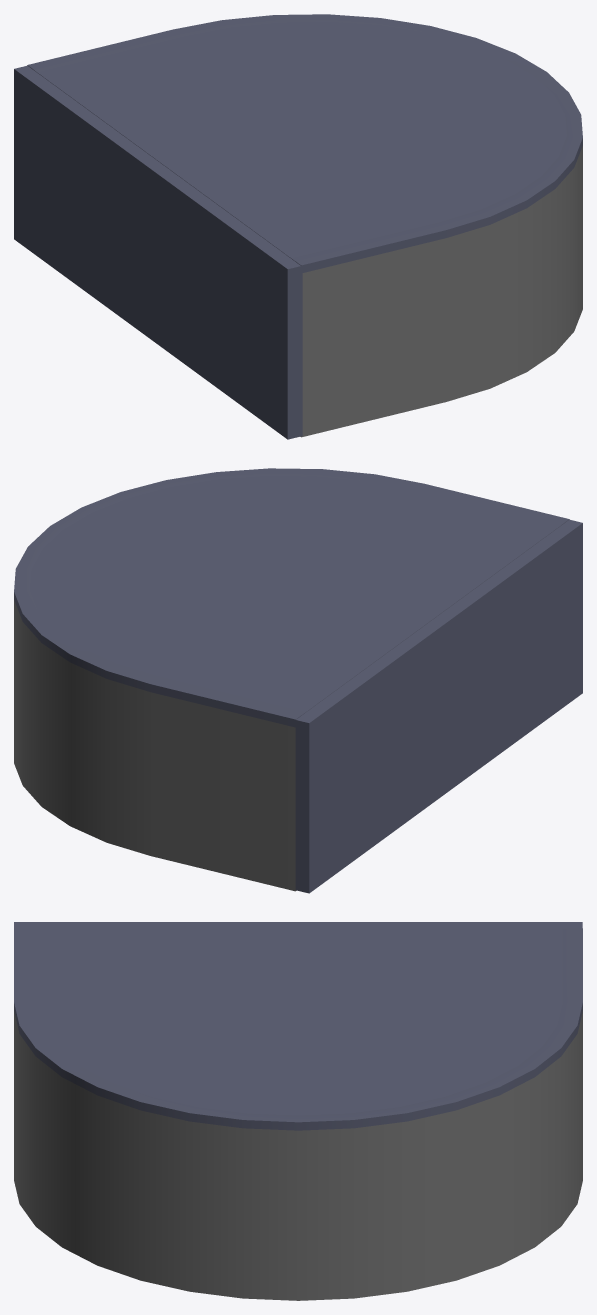
The model's file is Walls.fbx.
3 renders of one model, top to bottom at view 1: azimuth 30°, elevation 25°; view 2: azimuth 150°, elevation 25°; view 3: azimuth 270°, elevation 25°, orthographic. The views are drawn at different scales.
Parts seen in each view (by area): view 1: Up, BAck, Wall; view 2: Up, BAck, Wall; view 3: Up, Wall, BAck.
Boxes of the visible parts, bbox=[...] form: Up: bbox=[27, 14, 582, 272]; BAck: bbox=[14, 65, 302, 439]; Wall: bbox=[300, 146, 582, 437]; Up: bbox=[14, 468, 569, 727]; BAck: bbox=[295, 519, 582, 893]; Wall: bbox=[14, 600, 296, 891]; Up: bbox=[14, 928, 582, 1130]; Wall: bbox=[14, 1011, 582, 1300]; BAck: bbox=[14, 922, 582, 928].
Bounding box in the file's own units: 2224 × 922 × 2664.
